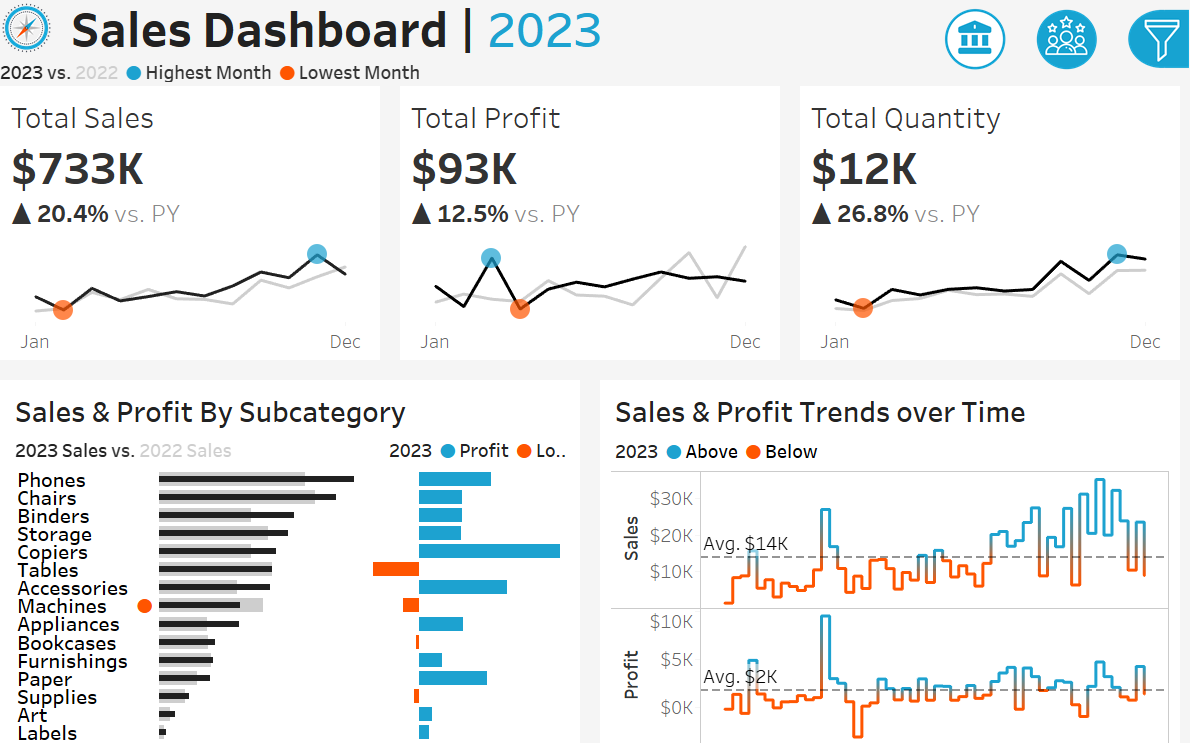

What the dashboard file says about the page in this screenshot:
{"tool":"tableau","page":{"name":"Sales Dashboard","canvas":[1200,800],"ordinal":1},"visuals":[{"type":"image","param":"Image/Icon - Logo.png","box":[0,0,73,59]},{"type":"text","box":[73,0,820,59]},{"type":"dashboard-object","box":[940,6,91,70]},{"type":"dashboard-object","box":[1031,6,91,70]},{"type":"blank","box":[952,10,237,86]},{"type":"worksheet","title":"Legend KPI","mark":"Automatic","box":[0,59,1200,29]},{"type":"worksheet","title":"KPI Sales","mark":"Automatic","rows":["Calculation_721701895347843083"],"cols":["Order Date"],"box":[0,88,400,284]},{"type":"worksheet","title":"KPI Profit","mark":"Automatic","rows":["Min/Max Sales (copy)_237846410425847814"],"cols":["Order Date"],"box":[400,88,400,284]},{"type":"worksheet","title":"KPI Quantity","mark":"Automatic","rows":["Min/Max Sales (copy) (copy)_237846410425856007"],"cols":["Order Date"],"box":[800,88,400,284]},{"type":"text","box":[952,96,237,37]},{"type":"parameter","param":"[Parameters].[Parameter 1]","box":[952,133,237,55]},{"type":"text","box":[952,188,237,32]},{"type":"filter","title":"KPI Sales","param":"[federated.1kpxa041aiai2y1cl4pui1t4eju9].[none:Category:nk]","box":[952,220,237,57]},{"type":"filter","title":"KPI Sales","param":"[federated.1kpxa041aiai2y1cl4pui1t4eju9].[none:Sub-Category:nk]","box":[952,277,237,57]},{"type":"blank","box":[952,334,237,60]},{"type":"text","box":[17,389,566,47]},{"type":"text","box":[617,389,566,47]},{"type":"text","box":[952,394,237,32]},{"type":"filter","title":"KPI Sales","param":"[federated.1kpxa041aiai2y1cl4pui1t4eju9].[none:Region:nk]","box":[952,426,237,57]},{"type":"worksheet","title":"Legend Subcategory","mark":"Automatic","box":[17,436,374,32]},{"type":"text","box":[391,436,192,32]},{"type":"text","box":[617,436,566,33]},{"type":"worksheet","title":"Subcategory Comparison","mark":"Bar","rows":["Sub-Category","Calculation_2435040078806671369"],"cols":["CY Sales (copy)_721701895335804930","Calculation_721701895334993921","CY Sales (copy)_237846410424180736"],"box":[17,468,566,315]},{"type":"worksheet","title":"Weekly Trends","mark":"Automatic","rows":["Calculation_721701895334993921","CY Sales (copy)_237846410424180736"],"cols":["Order Date"],"box":[617,469,566,314]},{"type":"filter","title":"KPI Sales","param":"[federated.1kpxa041aiai2y1cl4pui1t4eju9].[none:State:nk]","box":[952,483,237,57]},{"type":"filter","title":"KPI Sales","param":"[federated.1kpxa041aiai2y1cl4pui1t4eju9].[none:City:nk]","box":[952,540,237,57]}]}

Visuals, with their boxes on the page's 1200x800 design canvas (x1, y1, x2, y2). These are canvas units, not pixel positions in the 1190x743 screenshot, which may show the page scaled, cropped or inside an application window:
image: (x1=0, y1=0, x2=73, y2=59)
text: (x1=73, y1=0, x2=893, y2=59)
dashboard-object: (x1=940, y1=6, x2=1031, y2=76)
dashboard-object: (x1=1031, y1=6, x2=1122, y2=76)
blank: (x1=952, y1=10, x2=1189, y2=96)
"Legend KPI" worksheet: (x1=0, y1=59, x2=1200, y2=88)
"KPI Sales" worksheet: (x1=0, y1=88, x2=400, y2=372)
"KPI Profit" worksheet: (x1=400, y1=88, x2=800, y2=372)
"KPI Quantity" worksheet: (x1=800, y1=88, x2=1200, y2=372)
text: (x1=952, y1=96, x2=1189, y2=133)
parameter: (x1=952, y1=133, x2=1189, y2=188)
text: (x1=952, y1=188, x2=1189, y2=220)
"KPI Sales" filter: (x1=952, y1=220, x2=1189, y2=277)
"KPI Sales" filter: (x1=952, y1=277, x2=1189, y2=334)
blank: (x1=952, y1=334, x2=1189, y2=394)
text: (x1=17, y1=389, x2=583, y2=436)
text: (x1=617, y1=389, x2=1183, y2=436)
text: (x1=952, y1=394, x2=1189, y2=426)
"KPI Sales" filter: (x1=952, y1=426, x2=1189, y2=483)
"Legend Subcategory" worksheet: (x1=17, y1=436, x2=391, y2=468)
text: (x1=391, y1=436, x2=583, y2=468)
text: (x1=617, y1=436, x2=1183, y2=469)
"Subcategory Comparison" worksheet (Bar marks): (x1=17, y1=468, x2=583, y2=783)
"Weekly Trends" worksheet: (x1=617, y1=469, x2=1183, y2=783)
"KPI Sales" filter: (x1=952, y1=483, x2=1189, y2=540)
"KPI Sales" filter: (x1=952, y1=540, x2=1189, y2=597)
